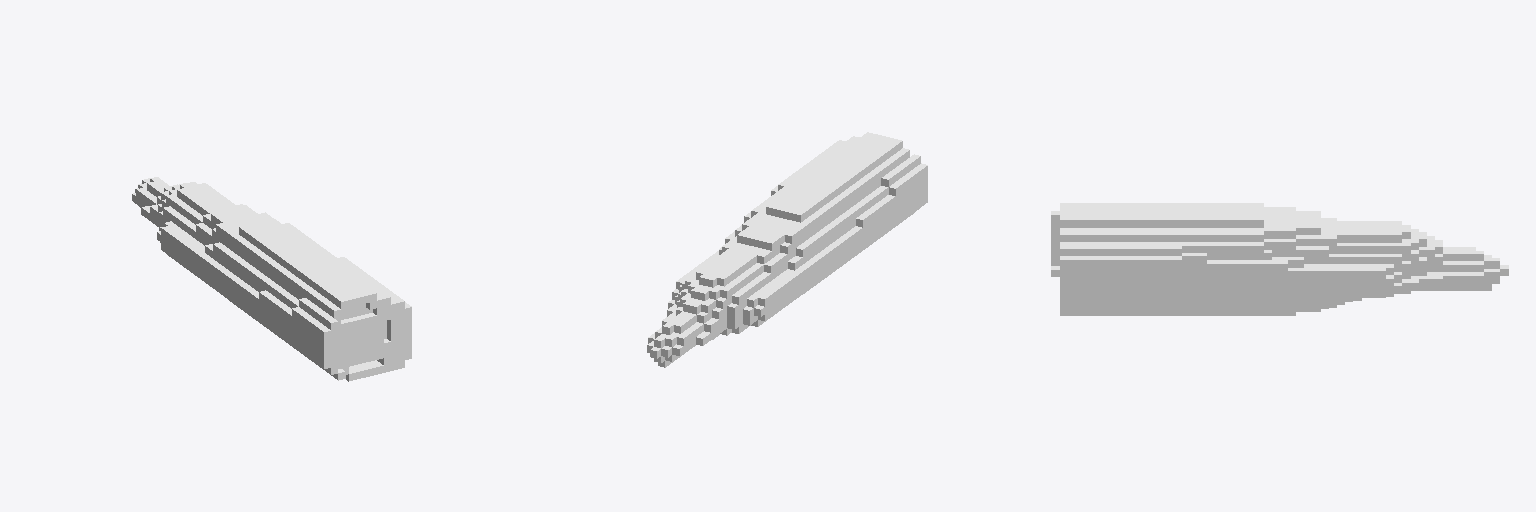
Rendered from PreCheck_Snake1-0.obj.
3 renders of one model, left to right at view 1: azimuth 30°, elevation 25°; view 2: azimuth 150°, elevation 25°; view 3: azimuth 270°, elevation 25°, orthographic.
Visible parts, largest first — view 1: object 1; view 2: object 1; view 3: object 1.
Boxes of the visible parts, x1,y1,x2,y2 form: object 1: [132, 177, 411, 381]; object 1: [647, 132, 927, 367]; object 1: [1051, 203, 1508, 315].
Size of the model in its own units: 1.3 by 1.1 by 5.6.